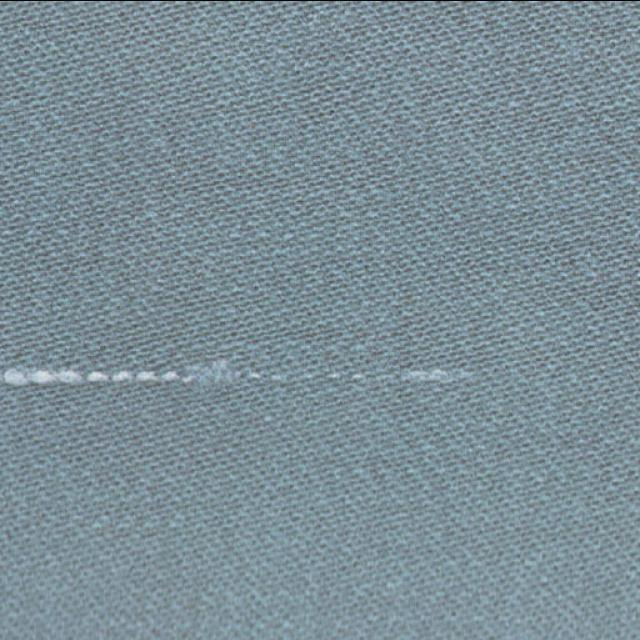stains: (0, 318, 506, 445)
